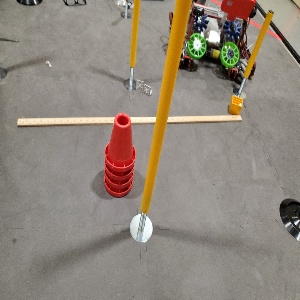Red_4: (98, 107, 138, 198)
